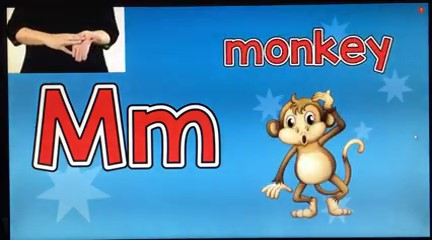M: (46, 27, 93, 65)
